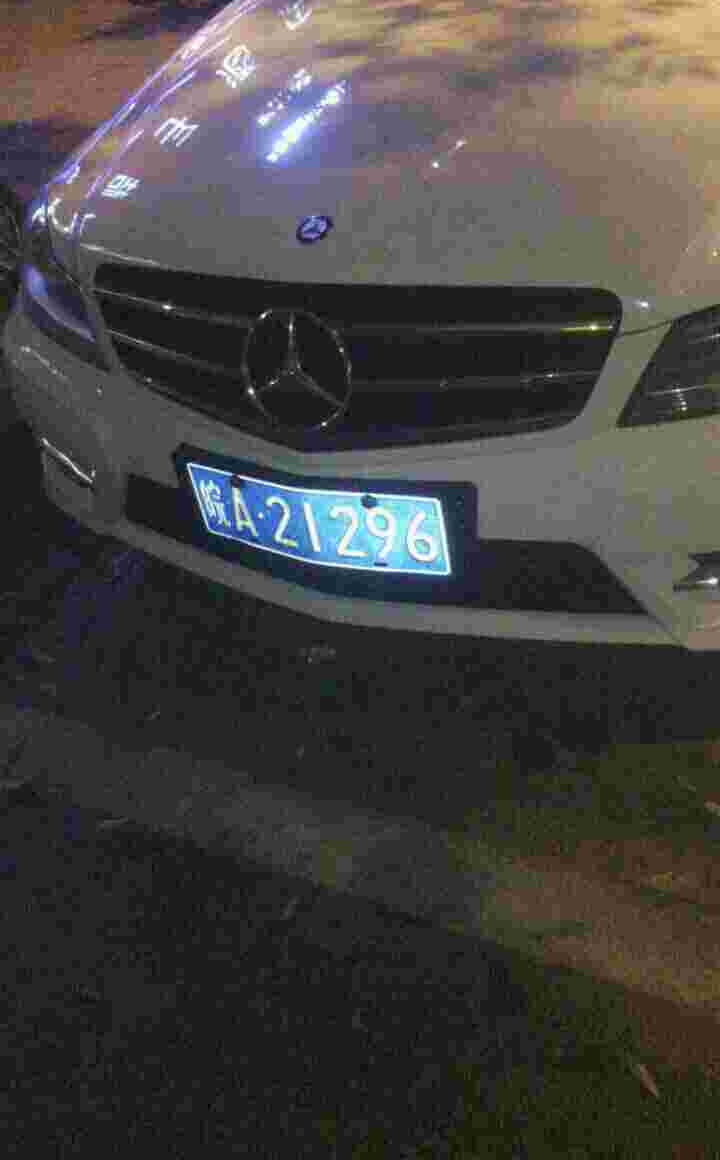license_plate: (194, 469, 449, 579)
